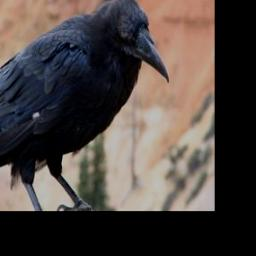Crow: (0, 0, 171, 210)
